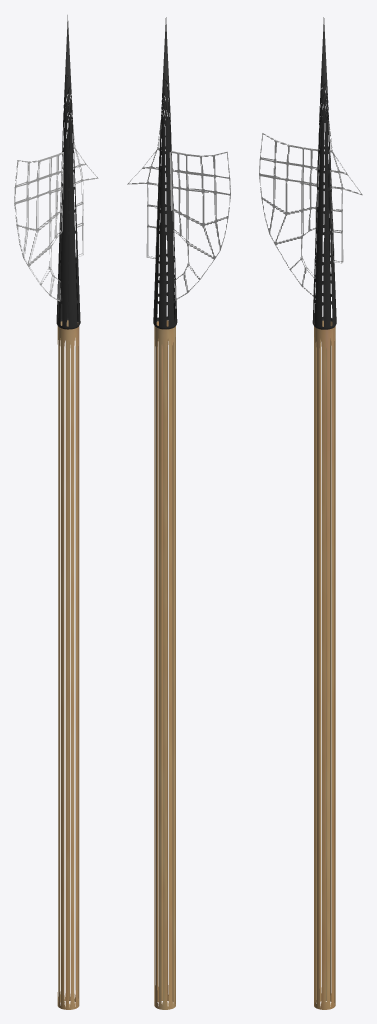
Rendered from roundFlatHalberd.fbx.
The picture shows the model from 3 angles, left to right: view 1: azimuth 30°, elevation 25°; view 2: azimuth 150°, elevation 25°; view 3: azimuth 330°, elevation 25°; orthographic projection.
Parts seen in each view (by area): view 1: pCylinder2, pCylinder1; view 2: pCylinder2, pCylinder1; view 3: pCylinder2, pCylinder1.
Part boxes in pixels (bbox=[...]): pCylinder2: bbox=[57, 320, 79, 1009]; pCylinder1: bbox=[14, 15, 98, 329]; pCylinder2: bbox=[154, 320, 175, 1009]; pCylinder1: bbox=[127, 17, 230, 329]; pCylinder2: bbox=[314, 320, 335, 1009]; pCylinder1: bbox=[259, 17, 362, 329].
Size of the model in its own units: 0.3457 by 3.48 by 0.0771.
1 material, 1 textured.
